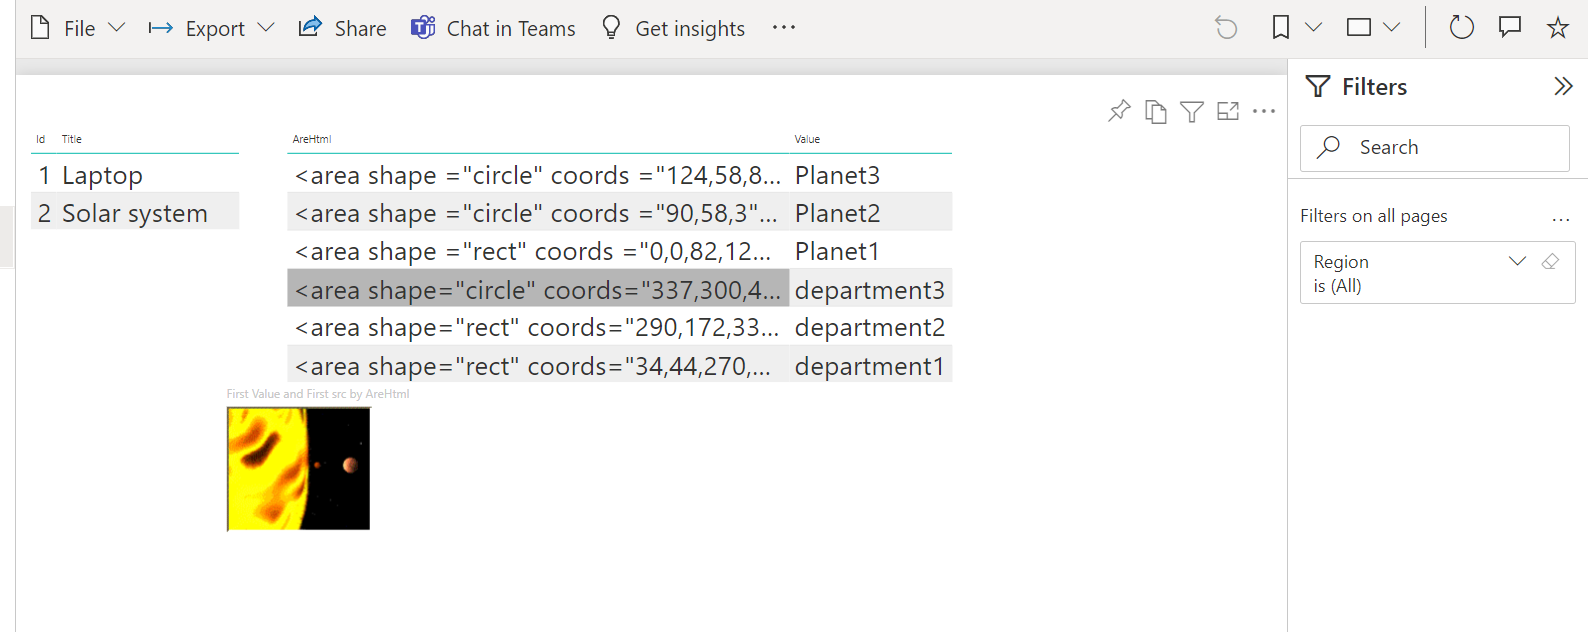

What the dashboard file says about the page in this screenshot:
{"tool":"powerbi","page":{"name":"Sample1","canvas":[1280,720],"ordinal":0},"visuals":[{"type":"tableEx","fields":{"Values":["image.Id","image.Title"]},"box":[9.5,20.5,281.1,186.3],"z":0},{"type":"tableEx","fields":{"Values":["imagemap.AreHtml","imagemap.Value"]},"box":[266.8,20.5,1013.7,292.1],"z":1000},{"type":"imagemap4AD8D1E1DA0943AEB18E1E59B92001A9","fields":{"htmlcolumn":["imagemap.AreHtml"],"imageurl":["Min(image.src)"],"value":["Min(imagemap.Value)"]},"box":[206.4,282.1,712,409],"z":2000}]}

Visuals, with their boxes on the page's 1280x720 design canvas (x1, y1, x2, y2). These are canvas units, not pixel positions in the 1588x632 screenshot, which may show the page scaled, cropped or inside an application window:
tableEx - image.Id x image.Title: x1=10, y1=20, x2=291, y2=207
tableEx - imagemap.AreHtml x imagemap.Value: x1=267, y1=20, x2=1280, y2=313
imagemap4AD8D1E1DA0943AEB18E1E59B92001A9 - imagemap.AreHtml x Min(image.src): x1=206, y1=282, x2=918, y2=691
